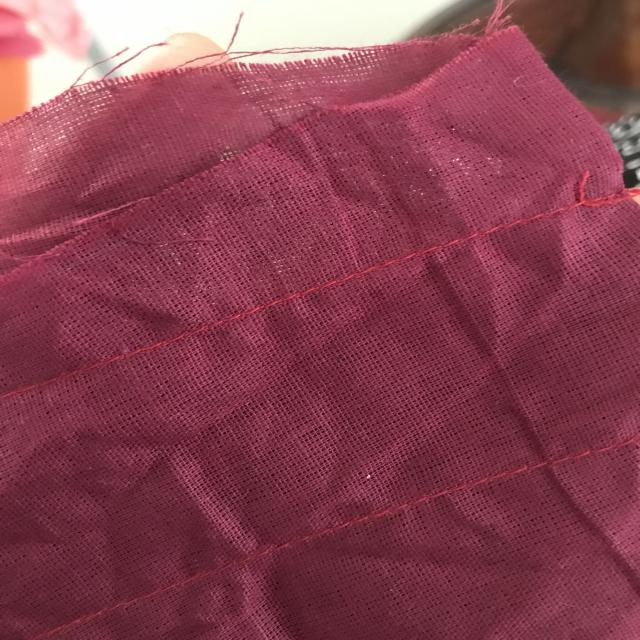good: (424, 208, 568, 241), (506, 441, 582, 491)
